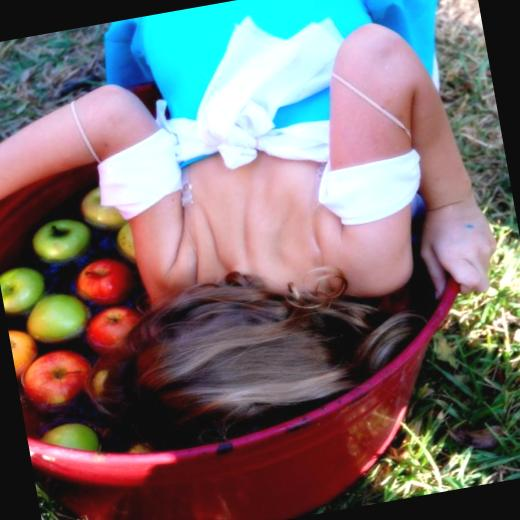Apple: (0, 182, 169, 475), (17, 354, 93, 416)
